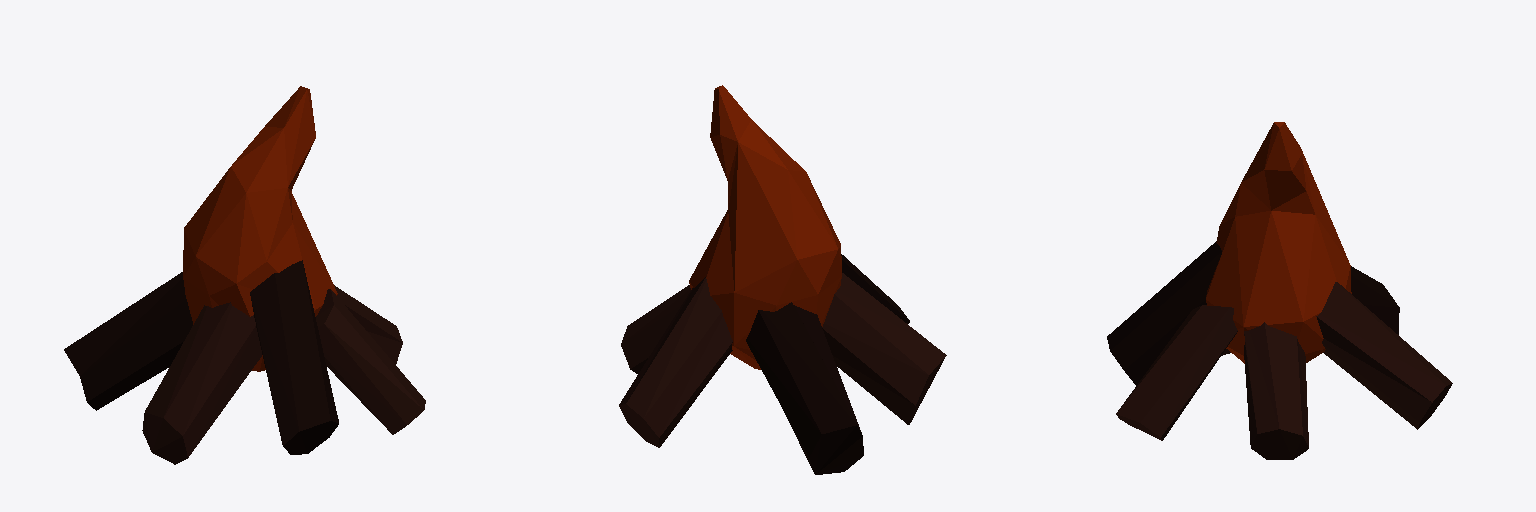
File: Woodfire.obj
3 renders of one model, left to right at view 1: azimuth 30°, elevation 25°; view 2: azimuth 150°, elevation 25°; view 3: azimuth 270°, elevation 25°, orthographic.
Parts seen in each view (by area): view 1: WoodFire_Cylinder.009; view 2: WoodFire_Cylinder.009; view 3: WoodFire_Cylinder.009.
Boxes of the visible parts, box(x1,y1,x2,y2) form: WoodFire_Cylinder.009: box(64, 86, 425, 464); WoodFire_Cylinder.009: box(619, 85, 946, 474); WoodFire_Cylinder.009: box(1107, 122, 1452, 459).
Size of the model in its own units: 0.7756 by 0.8281 by 0.8266.